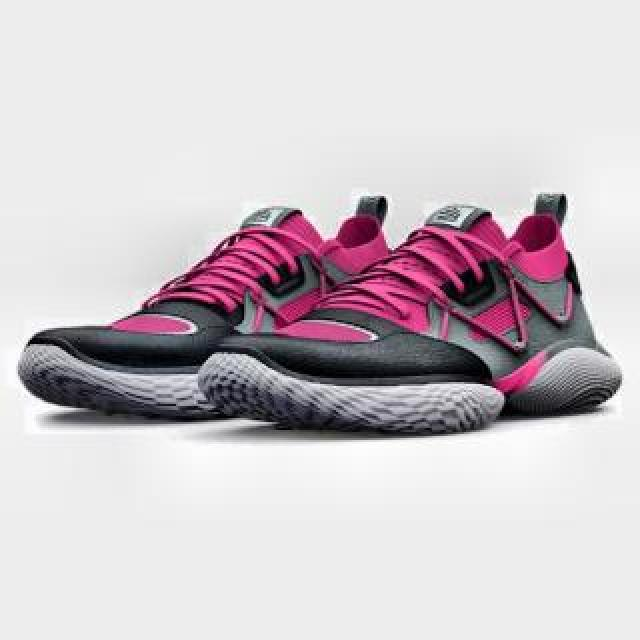shoe: (193, 195, 625, 429), (15, 195, 423, 421)
